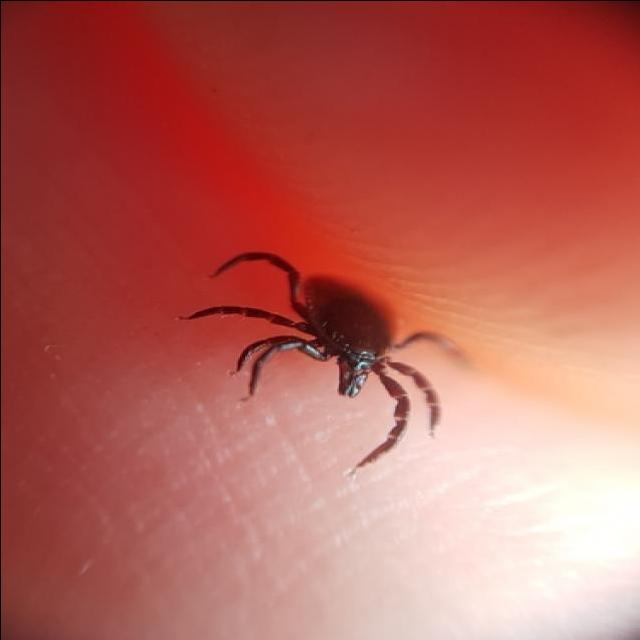Ixodes Ricinus-F: (174, 251, 459, 476)
